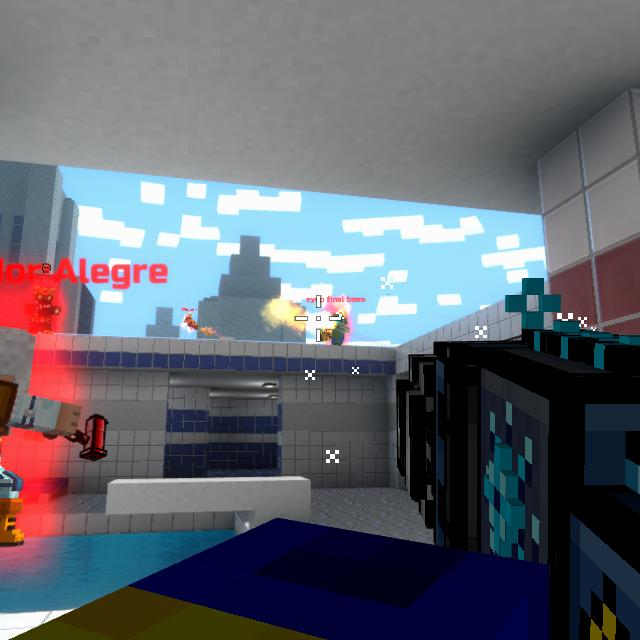Enemy: (0, 326, 82, 548), (27, 289, 61, 334), (331, 310, 350, 346)
